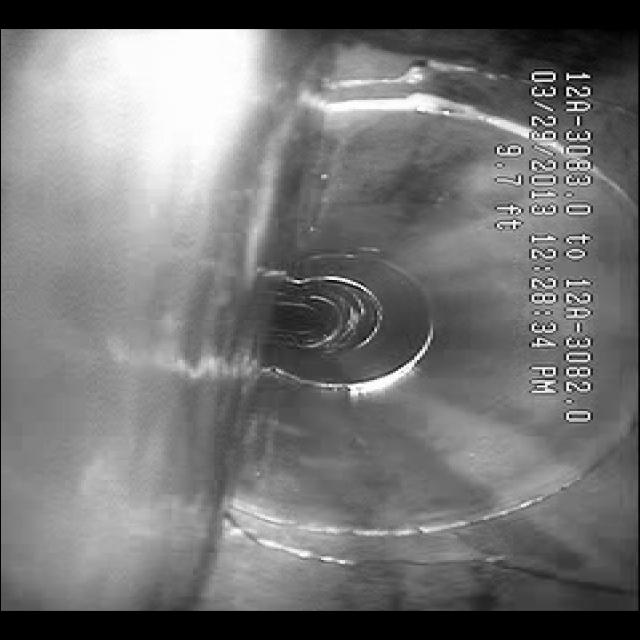Fracture: (234, 534, 610, 596), (326, 56, 484, 98)
